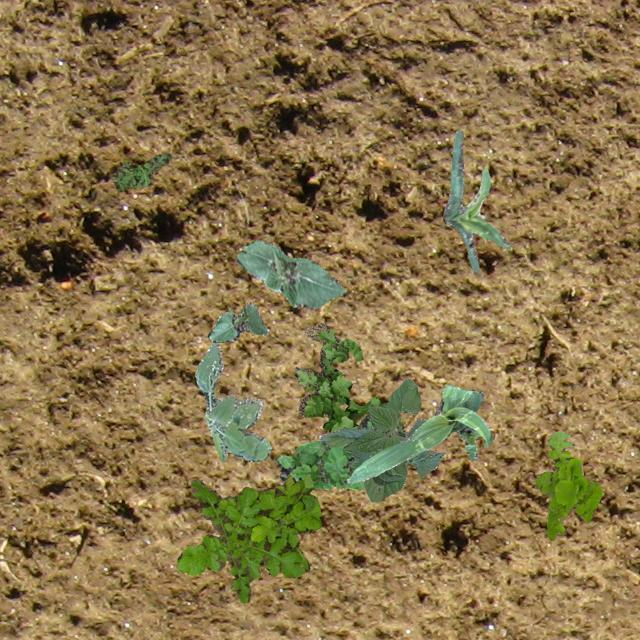crop: (318, 378, 444, 500), (346, 383, 492, 482), (442, 128, 508, 272), (236, 240, 344, 308), (206, 302, 268, 342)
weed: (177, 472, 321, 602), (292, 322, 404, 432), (194, 342, 270, 460), (276, 412, 372, 488), (534, 430, 600, 540), (111, 153, 170, 190)
